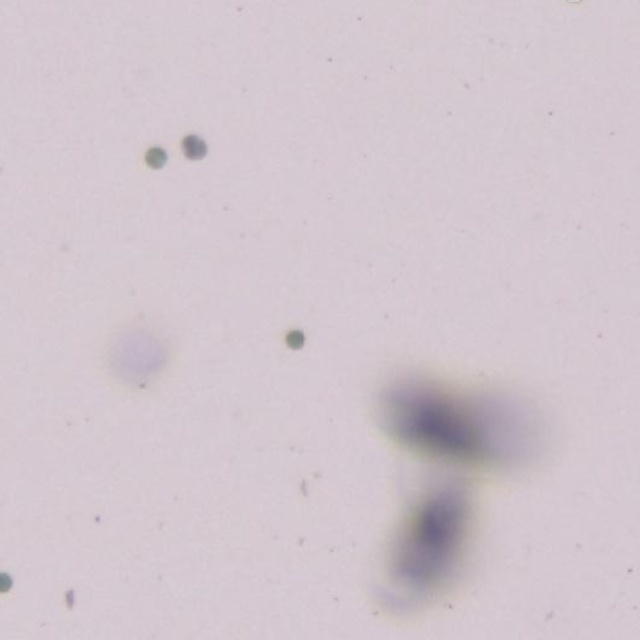non_viable: (182, 134, 206, 158), (145, 146, 167, 168), (285, 329, 304, 349), (0, 572, 12, 592)
